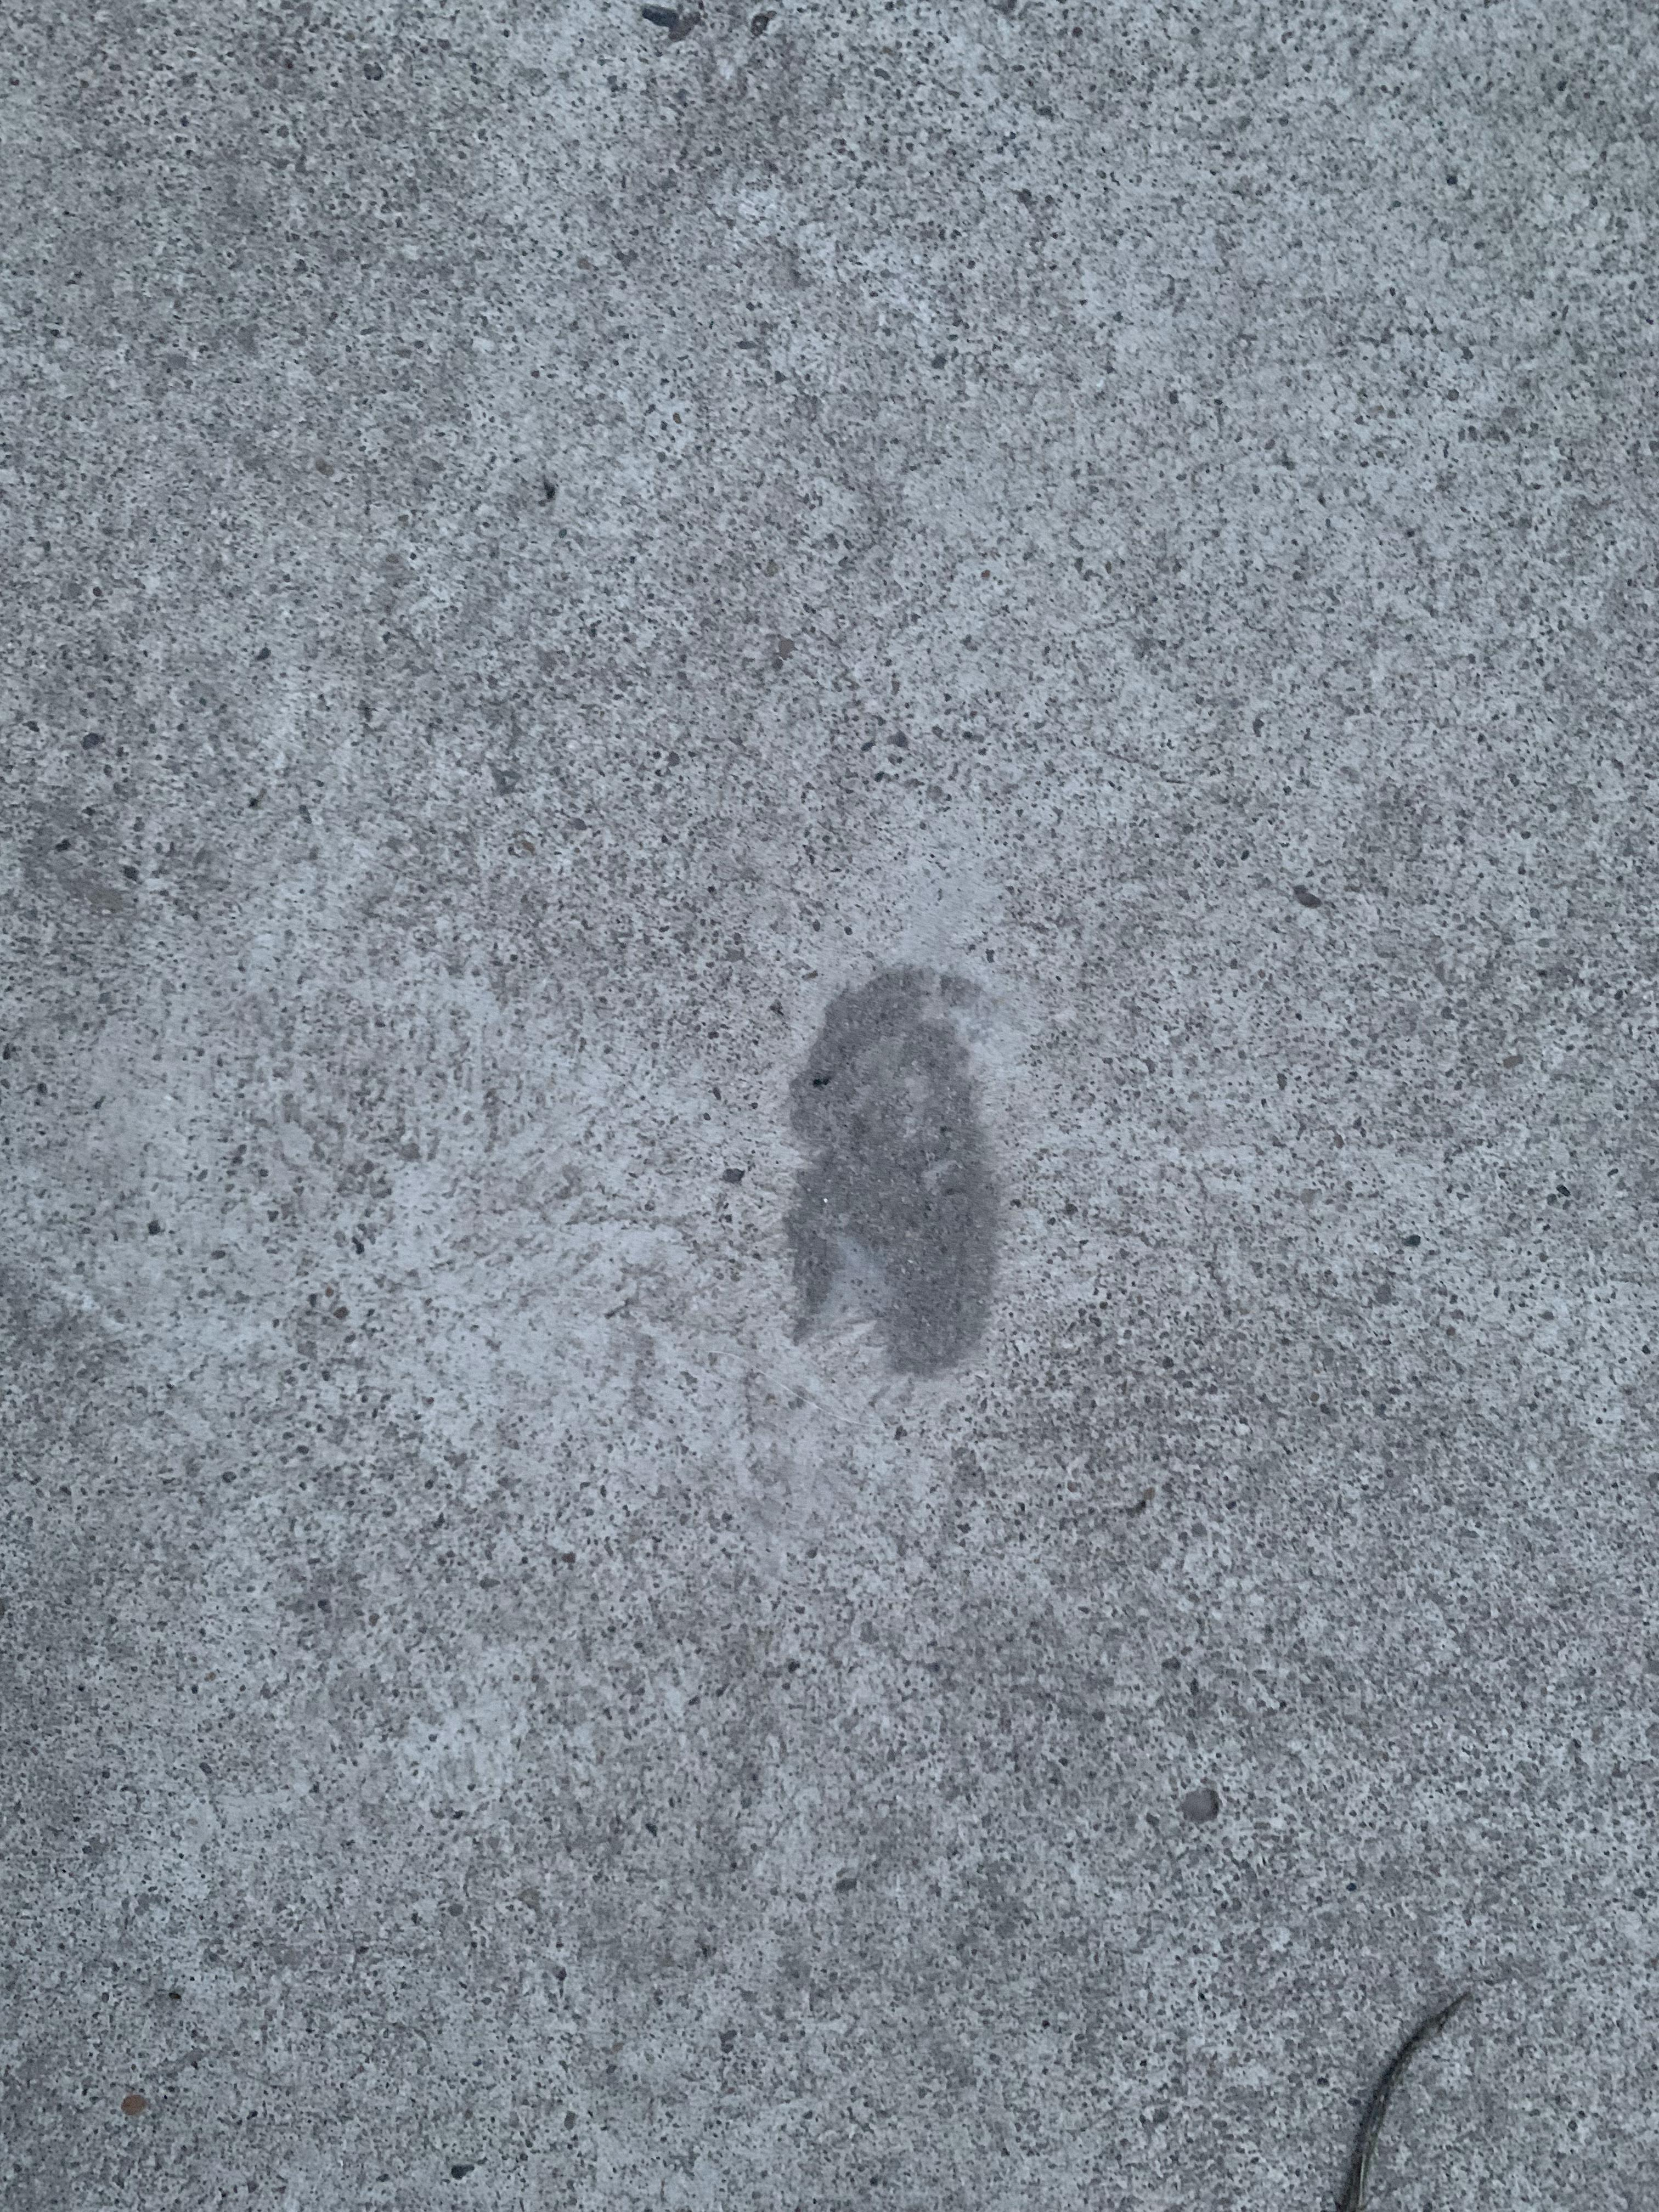grey spot: (777, 961, 1006, 1378)
